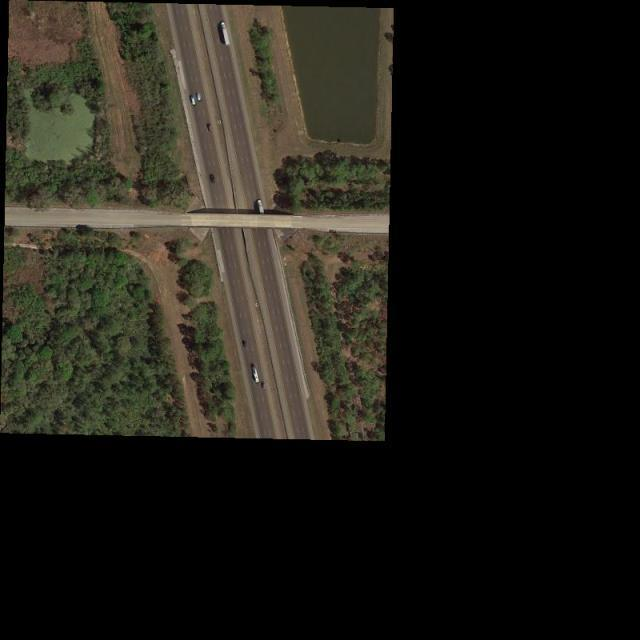vehicle: (220, 22, 230, 46), (258, 199, 266, 216), (253, 366, 260, 383), (190, 95, 197, 106), (242, 340, 249, 349), (210, 174, 216, 184), (208, 124, 214, 133), (262, 382, 268, 390), (196, 93, 202, 101)
